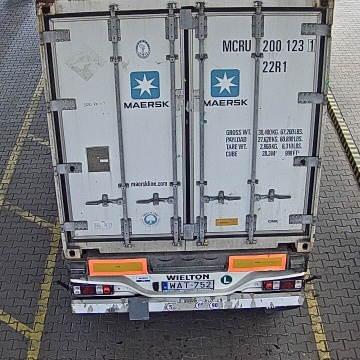serial_id: (223, 39, 315, 51)
